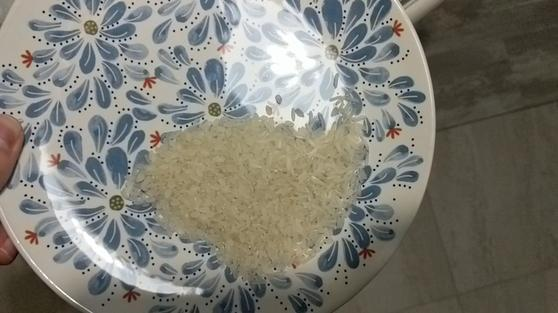rice: (121, 96, 377, 290)
